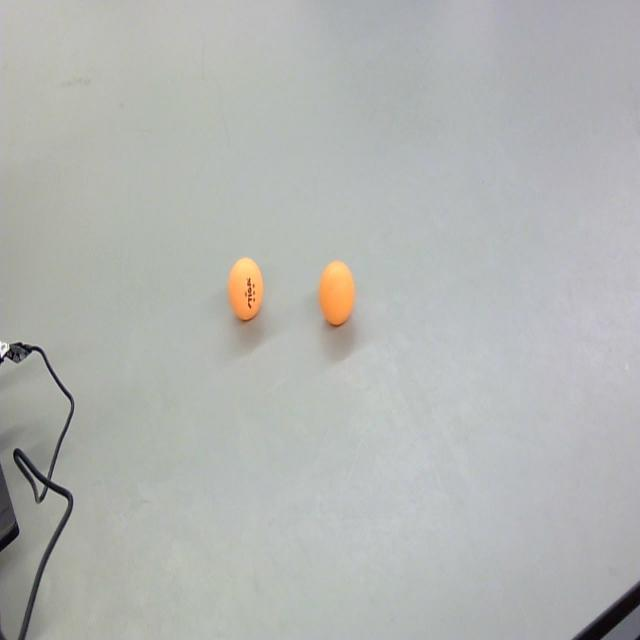ball: (318, 258, 356, 332), (227, 257, 265, 322)
